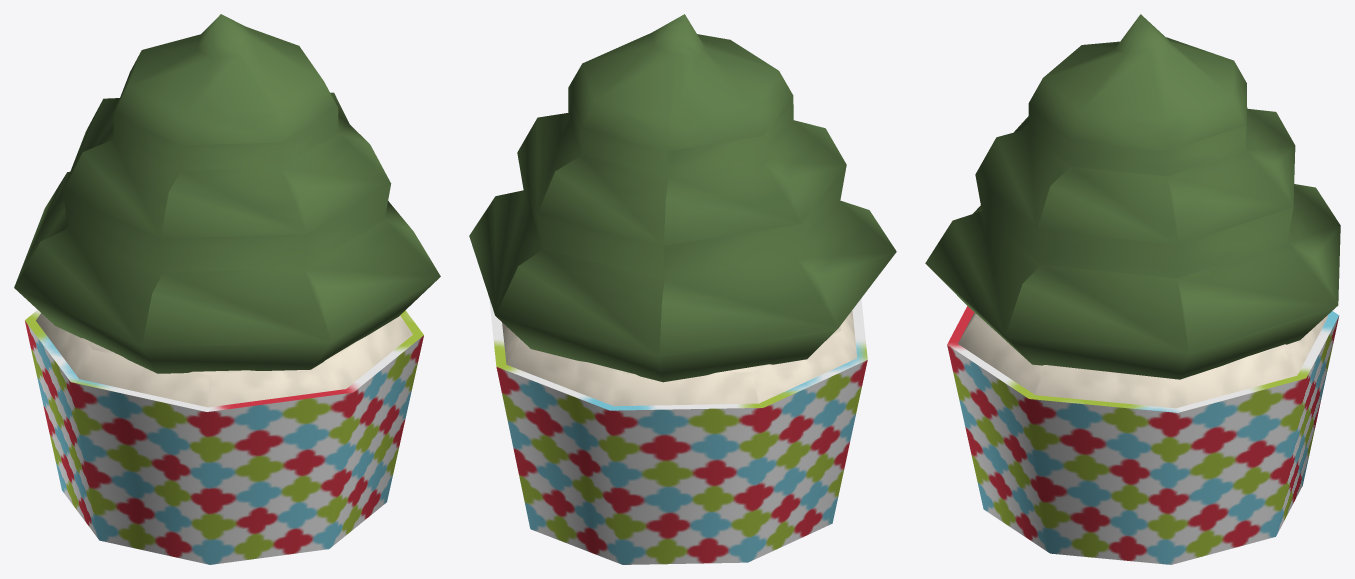
The model's file is Cupcake_A_24.FBX.
3 views of the same model, side by side, from view 1: azimuth 30°, elevation 25°; view 2: azimuth 150°, elevation 25°; view 3: azimuth 270°, elevation 25° (orthographic).
Parts seen in each view (by area): view 1: Cupcake; view 2: Cupcake; view 3: Cupcake.
Part boxes in pixels (bbox=[...]): Cupcake: bbox=[14, 14, 440, 564]; Cupcake: bbox=[469, 14, 896, 564]; Cupcake: bbox=[925, 14, 1340, 564].
Size of the model in its own units: 34.42 by 43.01 by 33.65.
